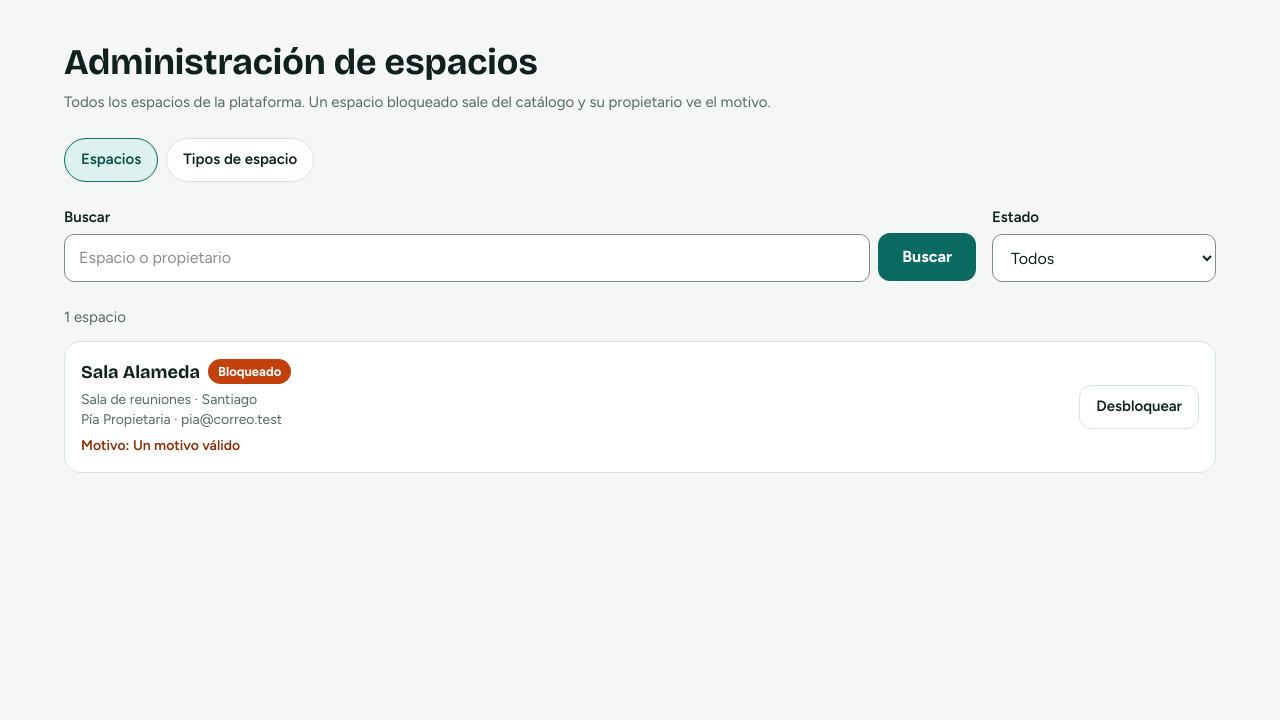
AdminSpacesPage (AD-02) › desbloquear › confirma y deja el espacio inactivo, sin motivo
Click the button with aria-label "Desbloquear Sala Alameda" at (1139, 406), box 1079,384 -> 1199,428
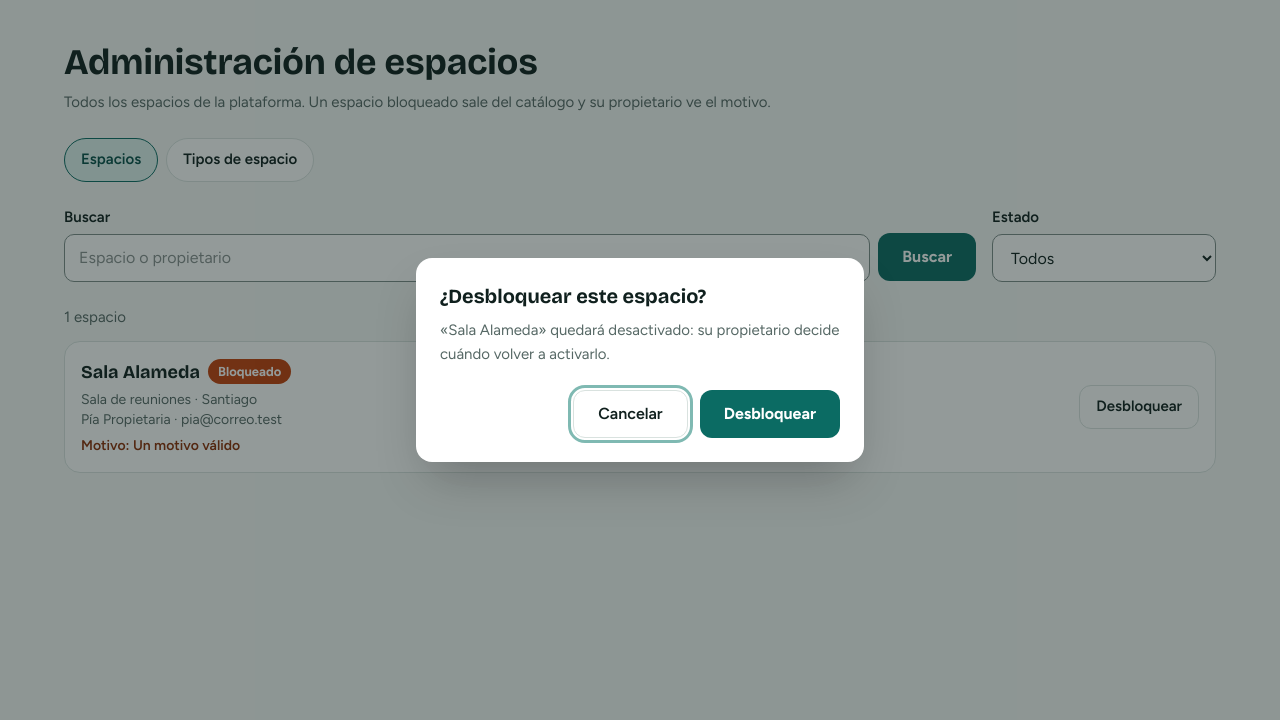
Now the text "su propietario decide cuándo volver a activarlo" is shown, box 440,321 -> 840,363
Click the button "Desbloquear" at (770, 414), box 700,390 -> 840,438
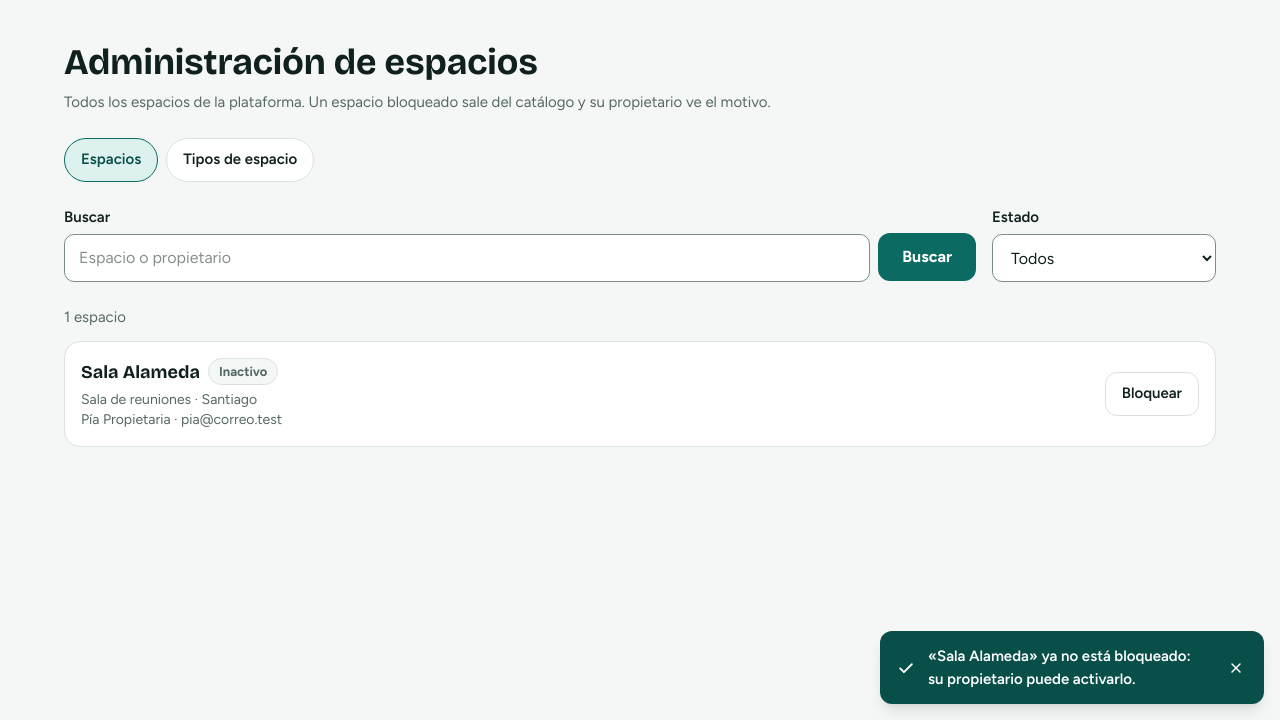
Expected: the text "Motivo" is not shown
Now the text "Inactivo" is shown, box 208,358 -> 278,385
